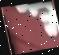dent: (1, 0, 59, 55)
